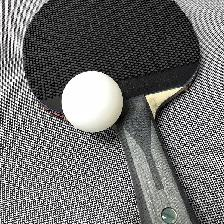WhiteBall: (60, 71, 123, 133)
